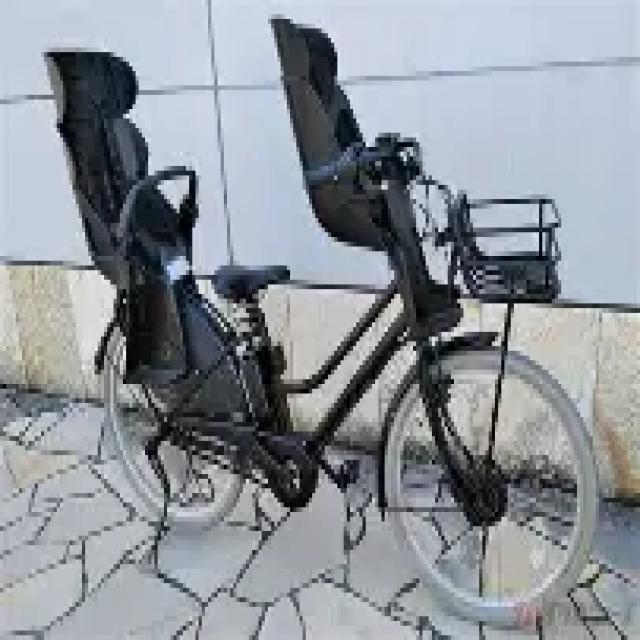battery: (243, 346, 286, 445)
childseat: (269, 15, 460, 322), (43, 44, 205, 379)
